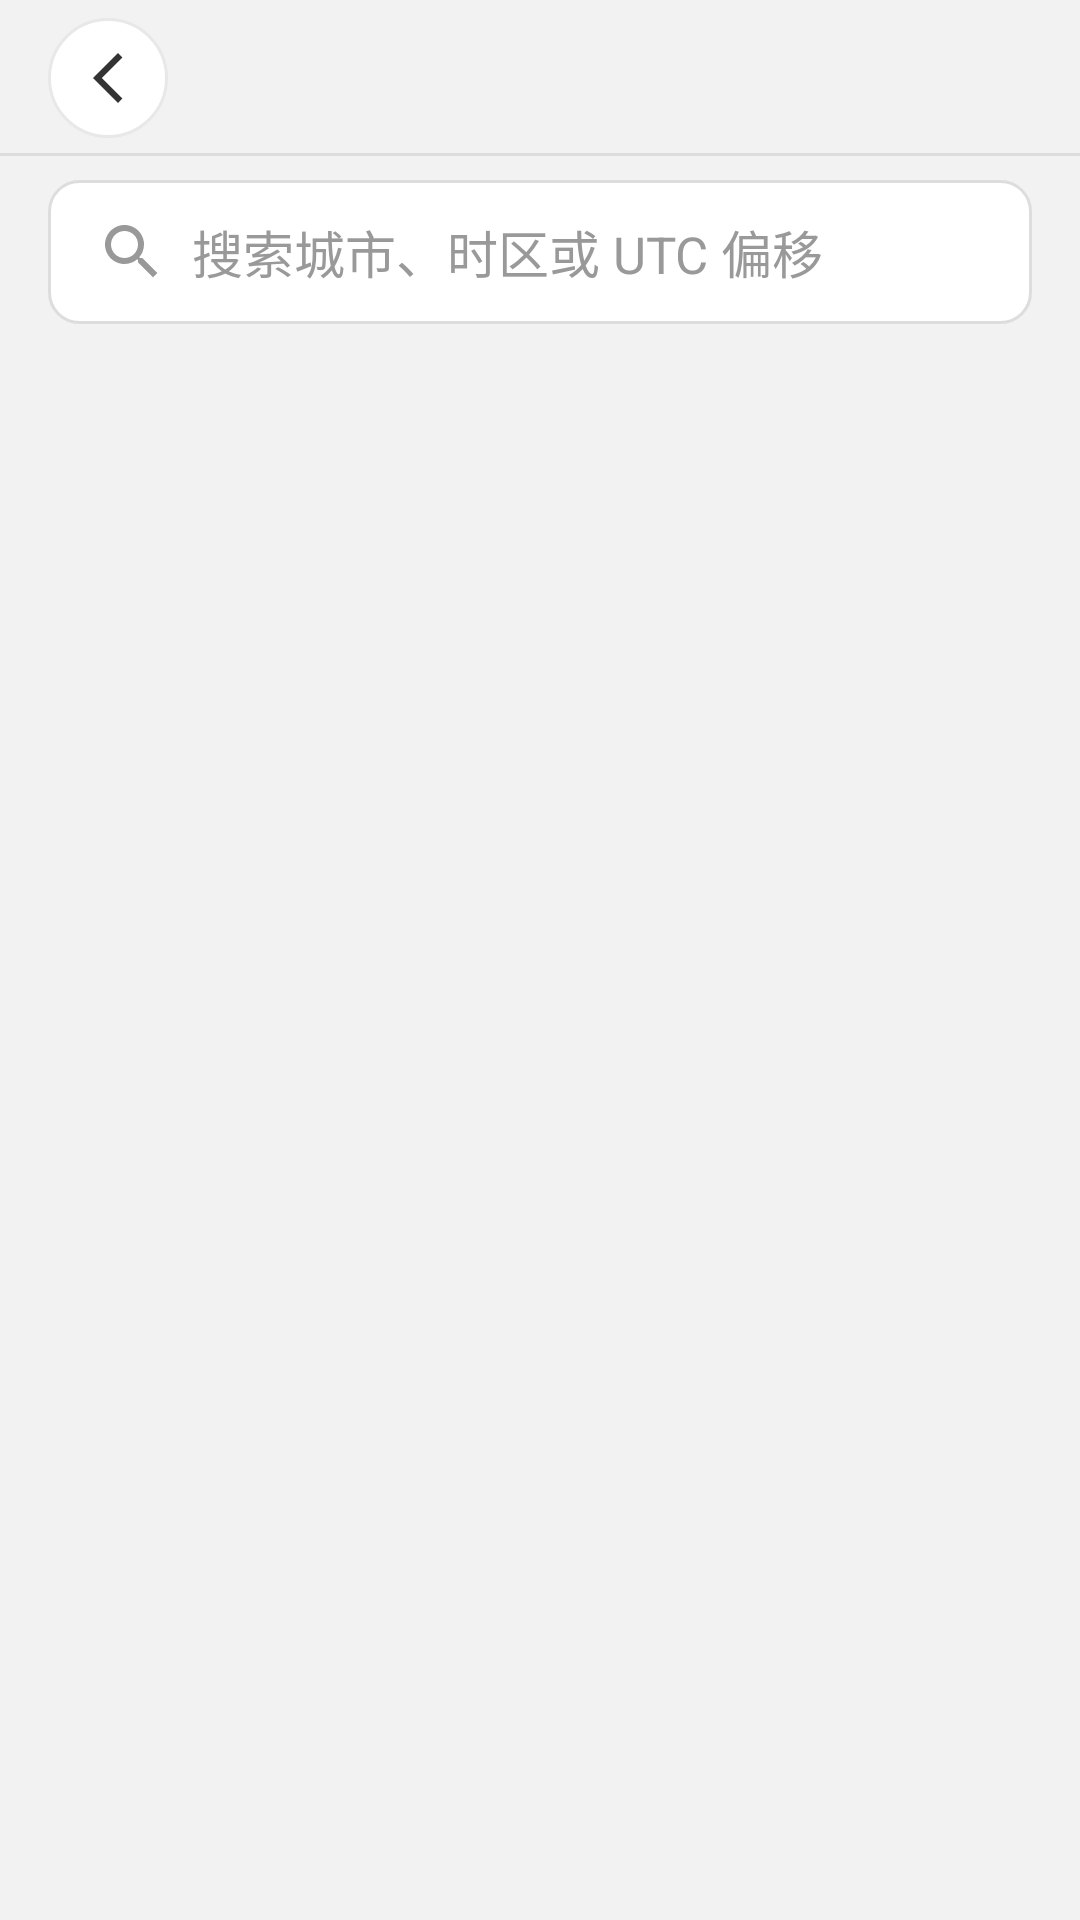

Screen size 1080w x 1920h. Icon name, then its center in pixels as [x,y]:
返回: [108,78]
